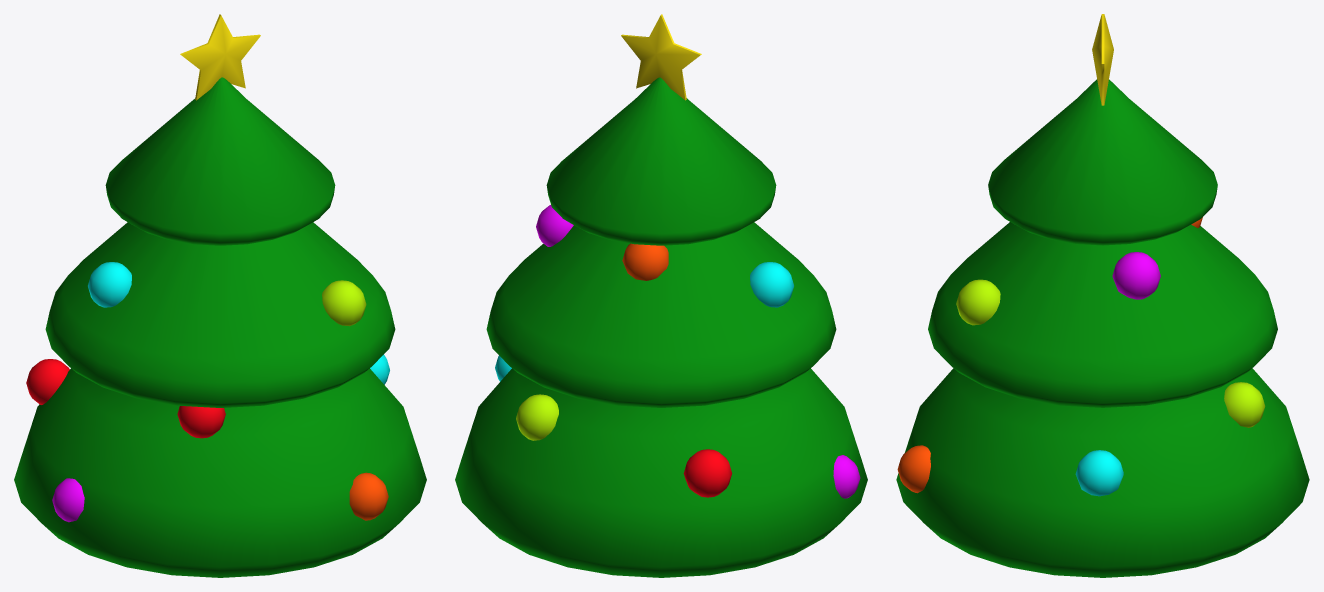
File: snowtree.fbx
3 views of the same model, side by side, from view 1: azimuth 30°, elevation 25°; view 2: azimuth 150°, elevation 25°; view 3: azimuth 270°, elevation 25° (orthographic).
Parts seen in each view (by area): view 1: Foliage, Star, ball_1, ball, ball_3, ball_7, ball_2, ball_9; view 2: Foliage, Star, ball_7, ball, ball_6, ball_8, ball_5, ball_9; view 3: Foliage, ball_5, ball_4, ball_1, ball_6, ball_3, Star.
Part boxes in pixels (bbox=[...]): Foliage: bbox=[14, 77, 426, 577]; Star: bbox=[180, 14, 260, 100]; ball_1: bbox=[322, 280, 366, 326]; ball: bbox=[88, 262, 131, 307]; ball_3: bbox=[349, 472, 388, 520]; ball_7: bbox=[26, 359, 69, 404]; ball_2: bbox=[177, 406, 225, 438]; ball_9: bbox=[52, 478, 84, 522]; Foliage: bbox=[455, 77, 867, 577]; Star: bbox=[621, 14, 701, 100]; ball_7: bbox=[683, 449, 732, 497]; ball: bbox=[750, 262, 793, 307]; ball_6: bbox=[516, 394, 558, 440]; ball_8: bbox=[622, 243, 668, 280]; ball_5: bbox=[536, 205, 573, 246]; ball_9: bbox=[833, 455, 860, 498]; Foliage: bbox=[896, 79, 1309, 577]; ball_5: bbox=[1112, 252, 1160, 299]; ball_4: bbox=[1075, 450, 1123, 496]; ball_1: bbox=[956, 279, 1000, 325]; ball_6: bbox=[1224, 382, 1265, 427]; ball_3: bbox=[897, 445, 930, 493]; Star: bbox=[1092, 14, 1113, 105].
Size of the model in its own units: 513 by 718 by 510.
